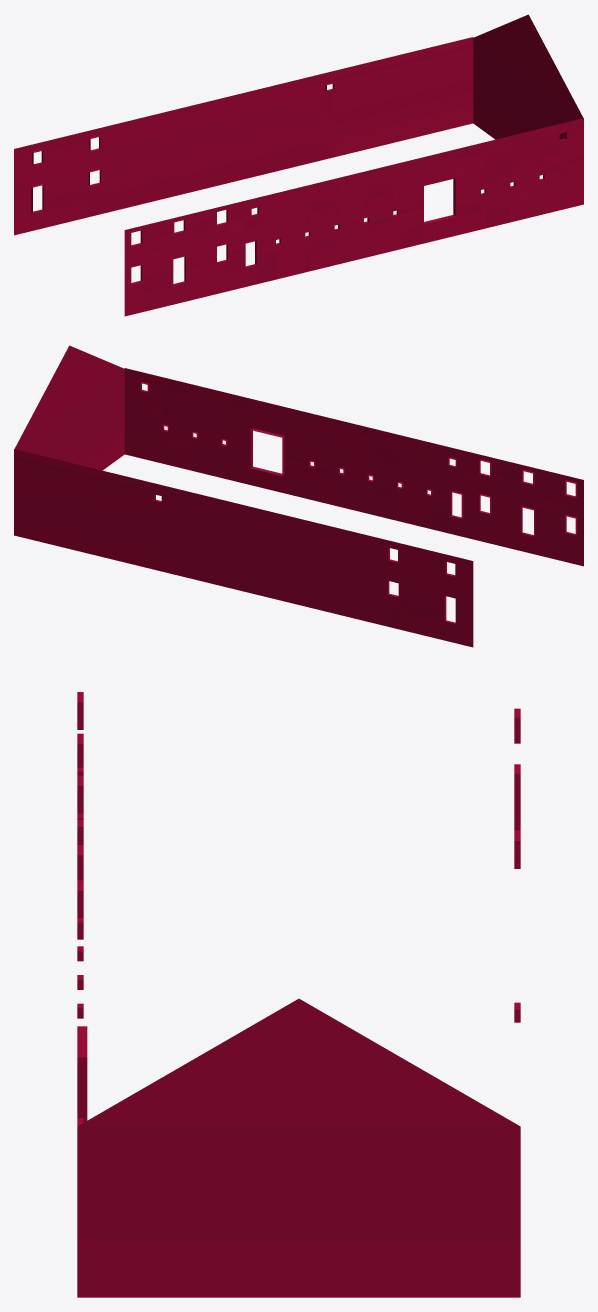
The model's file is SM_Bld_042_Masonry.glb.
3 renders of one model, top to bottom at view 1: azimuth 30°, elevation 25°; view 2: azimuth 150°, elevation 25°; view 3: azimuth 270°, elevation 25°, orthographic. The views are drawn at different scales.
Visible parts, largest first — view 1: SM_Bld_042_Masonry; view 2: SM_Bld_042_Masonry; view 3: SM_Bld_042_Masonry.
Boxes of the visible parts, x1,y1,x2,y2 form: SM_Bld_042_Masonry: (14, 14, 583, 316); SM_Bld_042_Masonry: (14, 345, 583, 647); SM_Bld_042_Masonry: (77, 692, 520, 1297).
Size of the model in its own units: 37.63 by 11.71 by 15.72.
